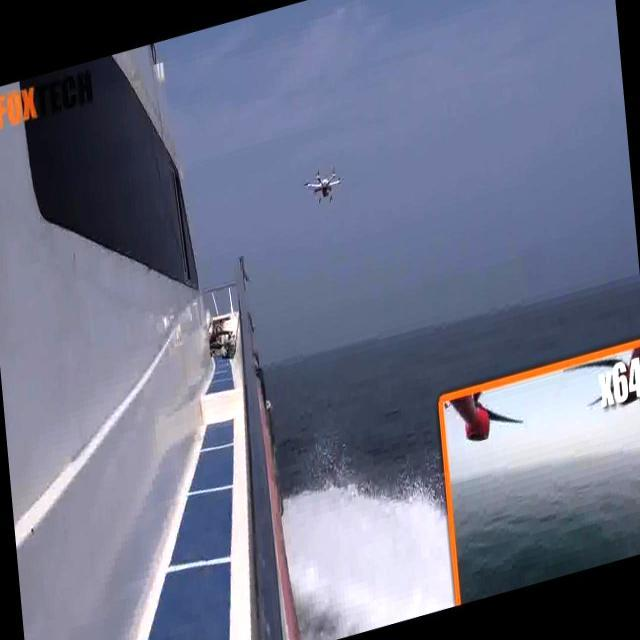drone: (290, 147, 349, 225)
